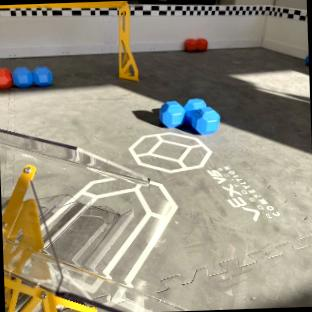Goal: (0, 1, 137, 80)
Med_goal: (0, 128, 187, 312)
V5_BLUE: (160, 98, 219, 135), (13, 66, 53, 87)
V5_RED: (0, 68, 12, 89), (185, 38, 197, 51), (195, 39, 207, 51)
